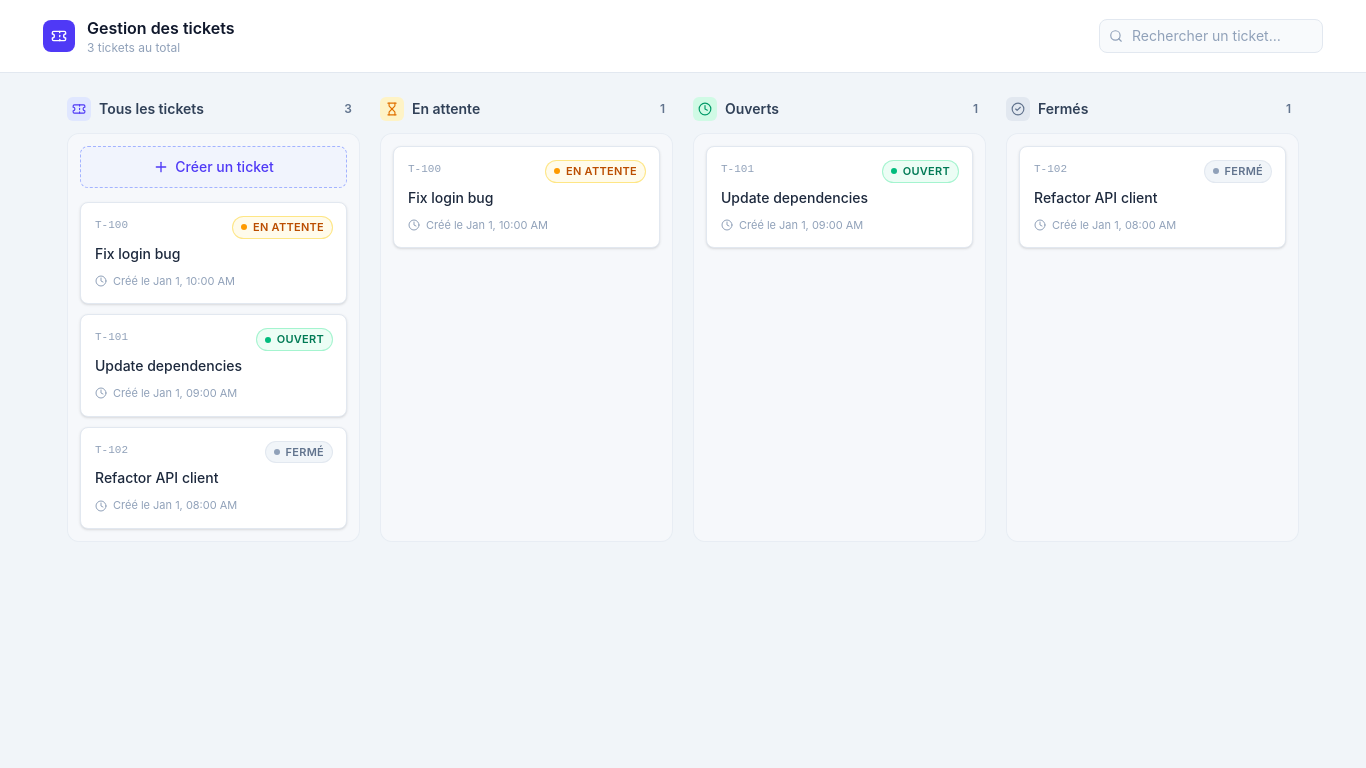
it: TicketBoard (integration) › filters tickets across all columns when searching
Expected: the text "Fix login bug" below "Tous les tickets" is shown, [95, 244, 180, 262]
Type "login" into the field with placeholder "Rechercher un ticket…".
click(1211, 36); type("login")  # box [1099, 19, 1323, 53]
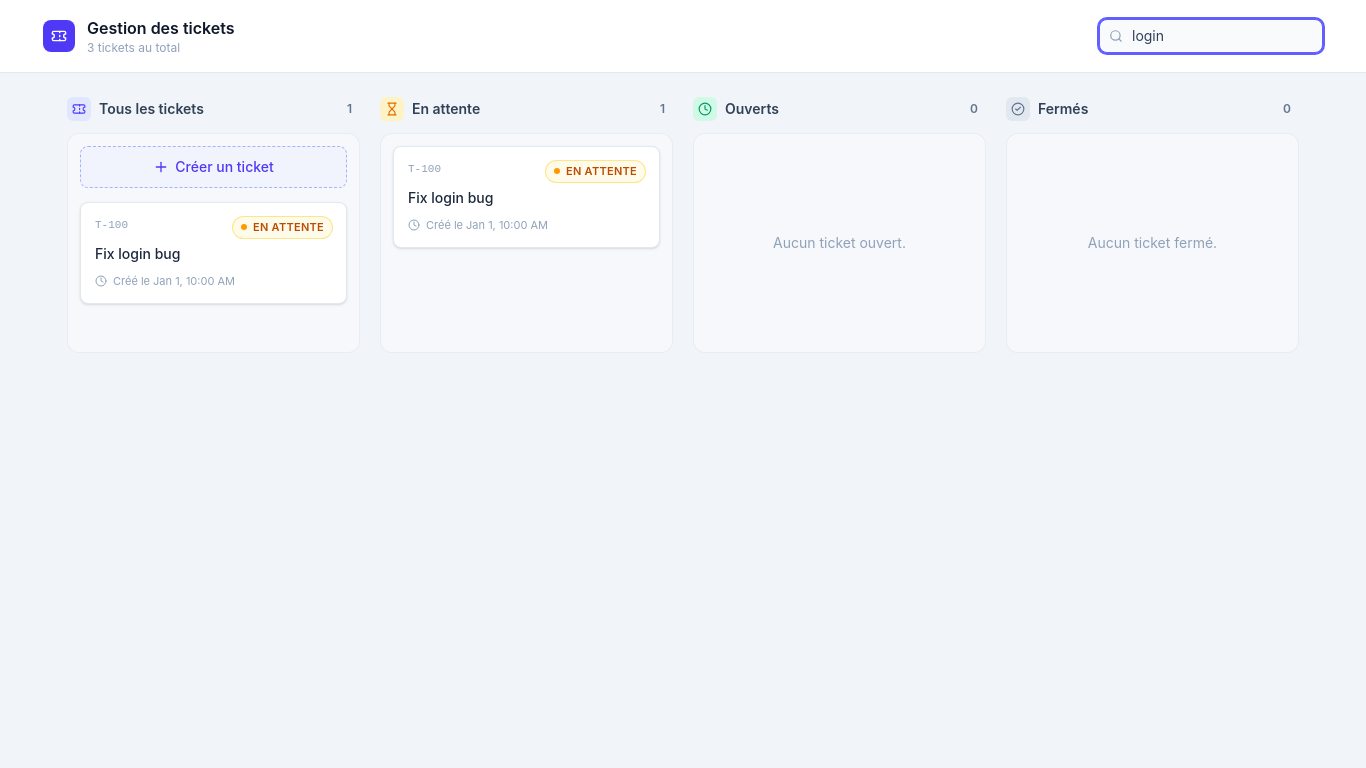
Expected: the text "Fix login bug" below "Tous les tickets" is shown, [95, 244, 180, 262]
Result: the button "Update dependencies" is gone
Result: the button "Refactor API client" is gone
